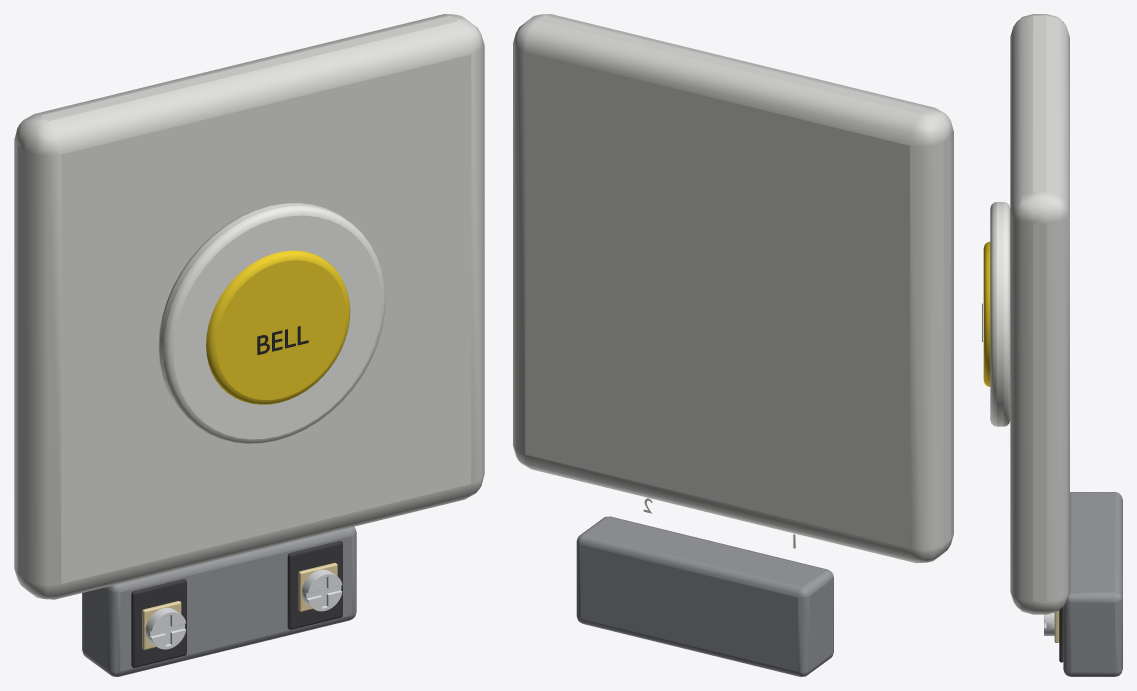
3 views of the same model, side by side, from view 1: azimuth 30°, elevation 25°; view 2: azimuth 150°, elevation 25°; view 3: azimuth 270°, elevation 25° (orthographic). The views are drawn at different scales.
Parts seen in each view (by area): view 1: body, mech; view 2: body, mech; view 3: body, mech.
Boxes of the visible parts, x1,y1,x2,y2 form: body: (14,14,484,599); mech: (82,526,356,676); body: (513,14,953,563); mech: (576,498,833,676); body: (982,14,1069,614); mech: (1044,492,1122,676).
Bounding box in the file's own units: 0.07 × 0.087 × 0.0212.
